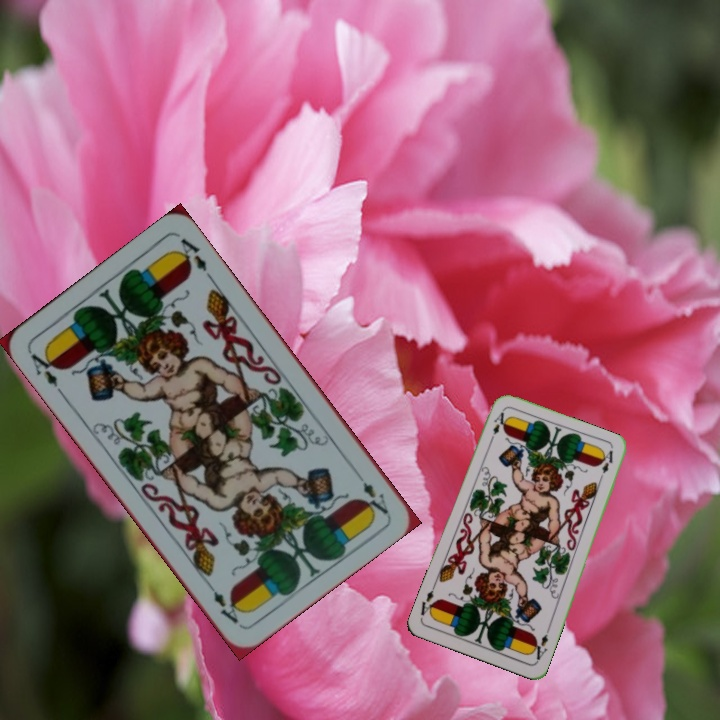EA: (25, 346, 63, 390), (358, 478, 391, 517), (527, 625, 552, 664), (488, 406, 507, 437)
